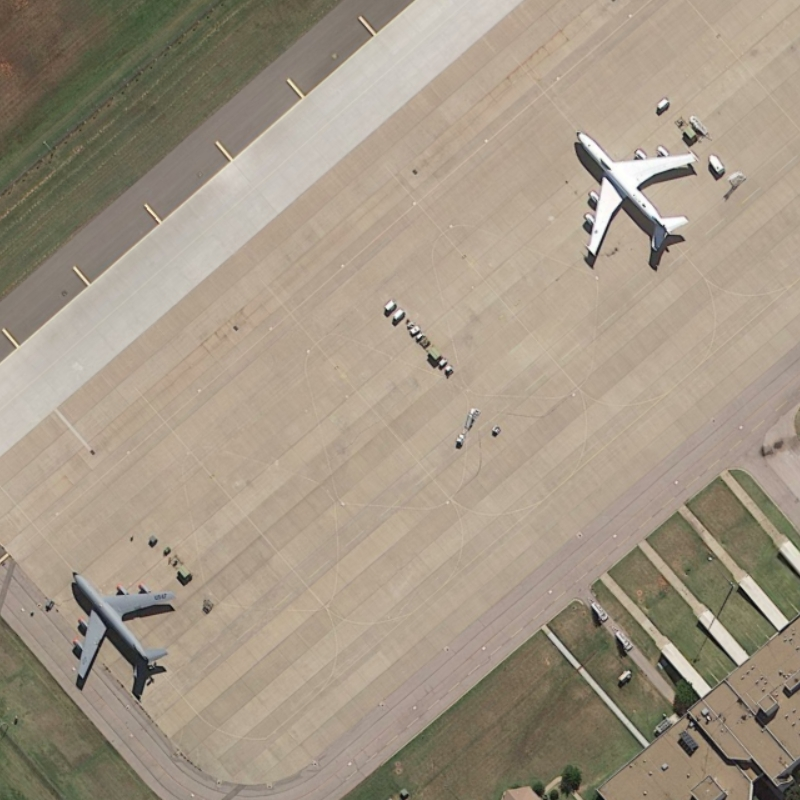A11: (568, 122, 706, 274)
A14: (59, 561, 187, 703)
